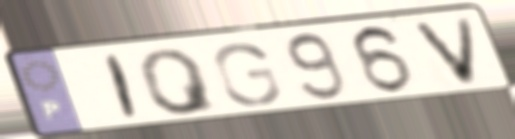6: (350, 22, 422, 99)
9: (284, 28, 352, 105)
G: (210, 40, 284, 108)
I: (103, 52, 142, 124)
Q: (134, 45, 224, 117)
V: (406, 14, 483, 89)
